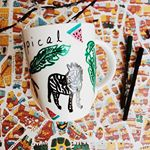cups: (19, 20, 120, 124)
